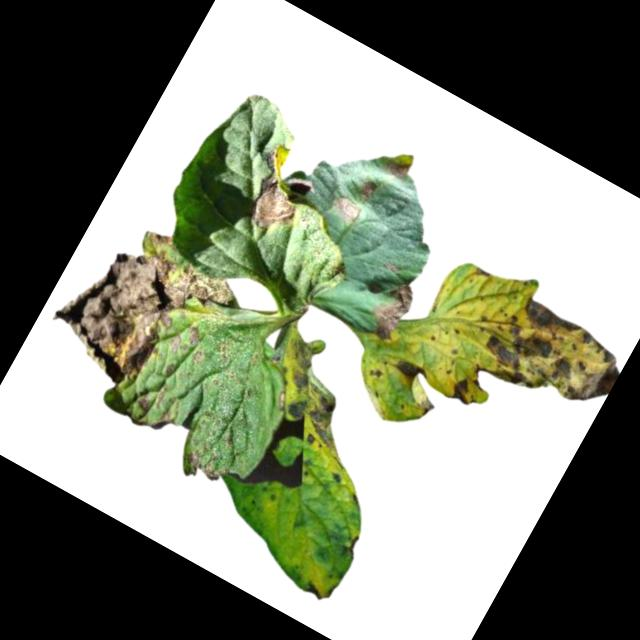Early_blight: (37, 205, 246, 415), (470, 288, 630, 431), (252, 333, 381, 460), (232, 143, 322, 245), (362, 274, 421, 347), (178, 443, 234, 495), (440, 371, 479, 409), (390, 354, 432, 388), (330, 193, 363, 223), (383, 155, 410, 183), (300, 578, 329, 603), (355, 177, 380, 202), (366, 364, 386, 384)
